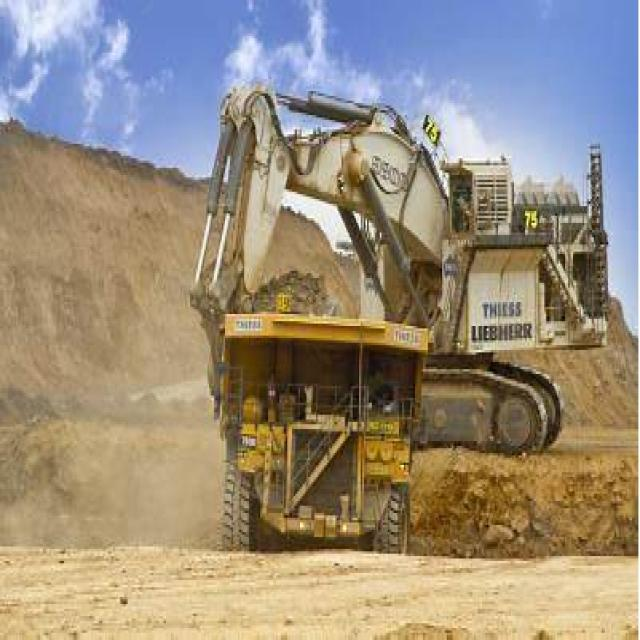dump_truck: (211, 302, 444, 578)
excavator: (195, 84, 608, 486)
